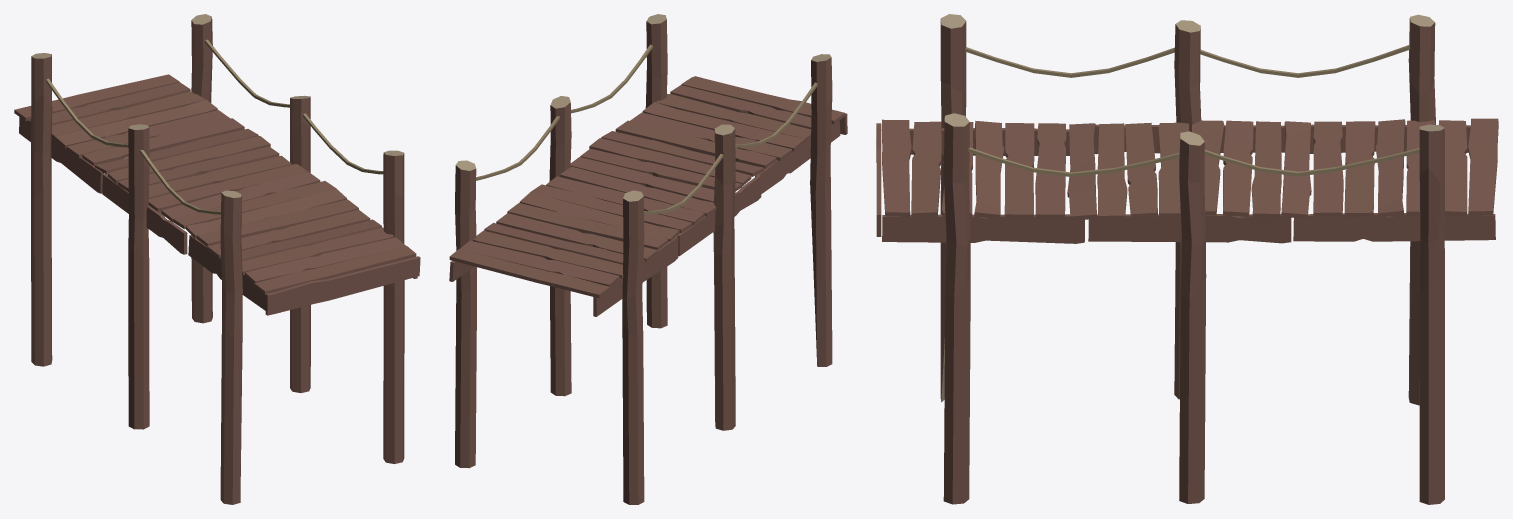
File: Dock_Long.glb
3 renders of one model, left to right at view 1: azimuth 30°, elevation 25°; view 2: azimuth 150°, elevation 25°; view 3: azimuth 270°, elevation 25°, orthographic. The views are drawn at different scales.
Parts seen in each view (by area): view 1: Dock_Long; view 2: Dock_Long; view 3: Dock_Long.
Part boxes in pixels (x1,y1,x2,y2): Dock_Long: [14, 14, 420, 504]; Dock_Long: [449, 14, 847, 504]; Dock_Long: [876, 14, 1498, 504].
Bounding box in the file's own units: 2.02 × 3.21 × 4.75.
